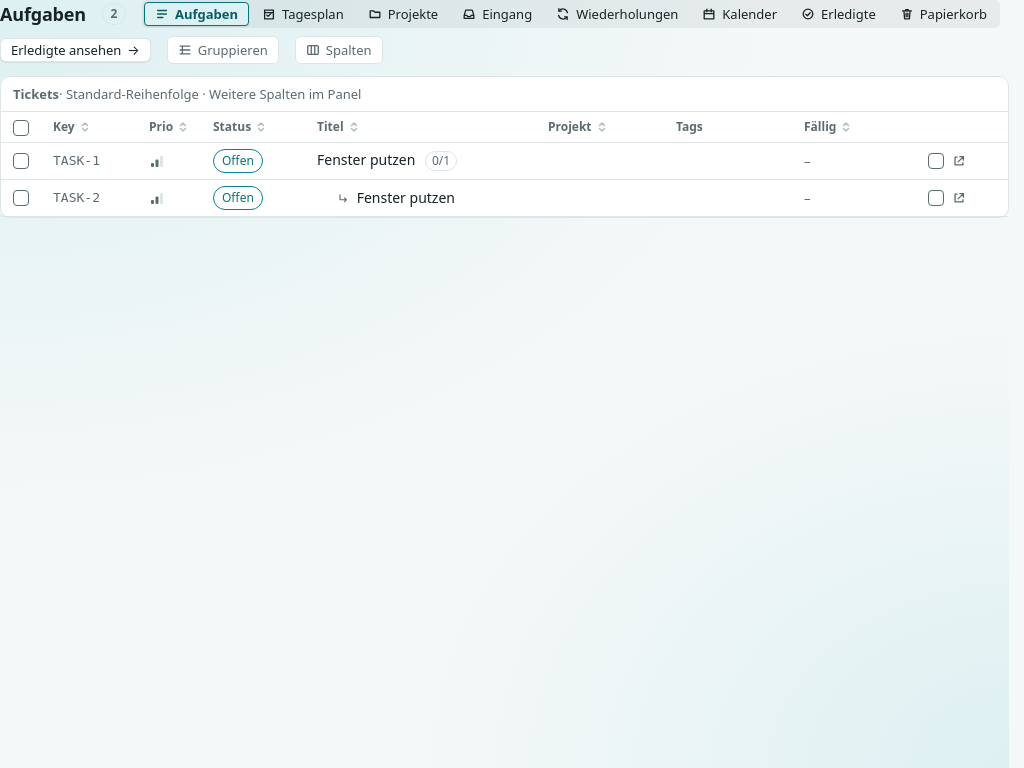
Test case: editing cells in place (plan BI-3) › completes through the check mark path, with the question about open sub-tasks
Click the button with aria-label "Status von TASK-1". click: (253, 161)
box: [201,143,305,179]
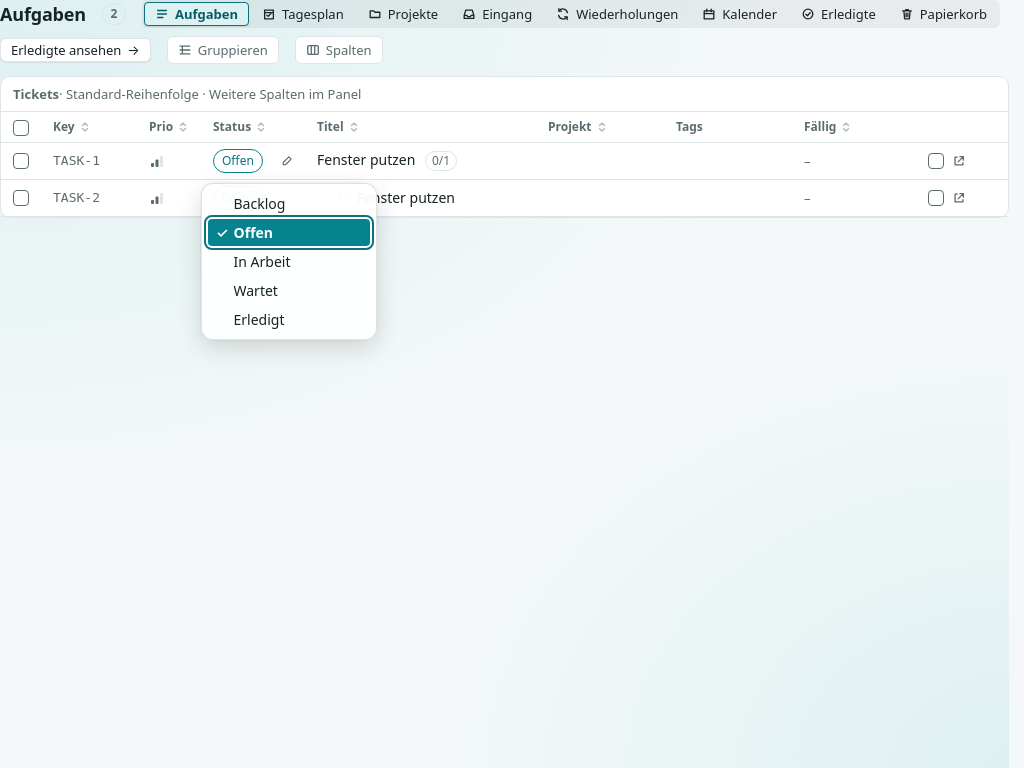
Click the menu item "Erledigt". click: (289, 319)
box: [208,306,370,333]
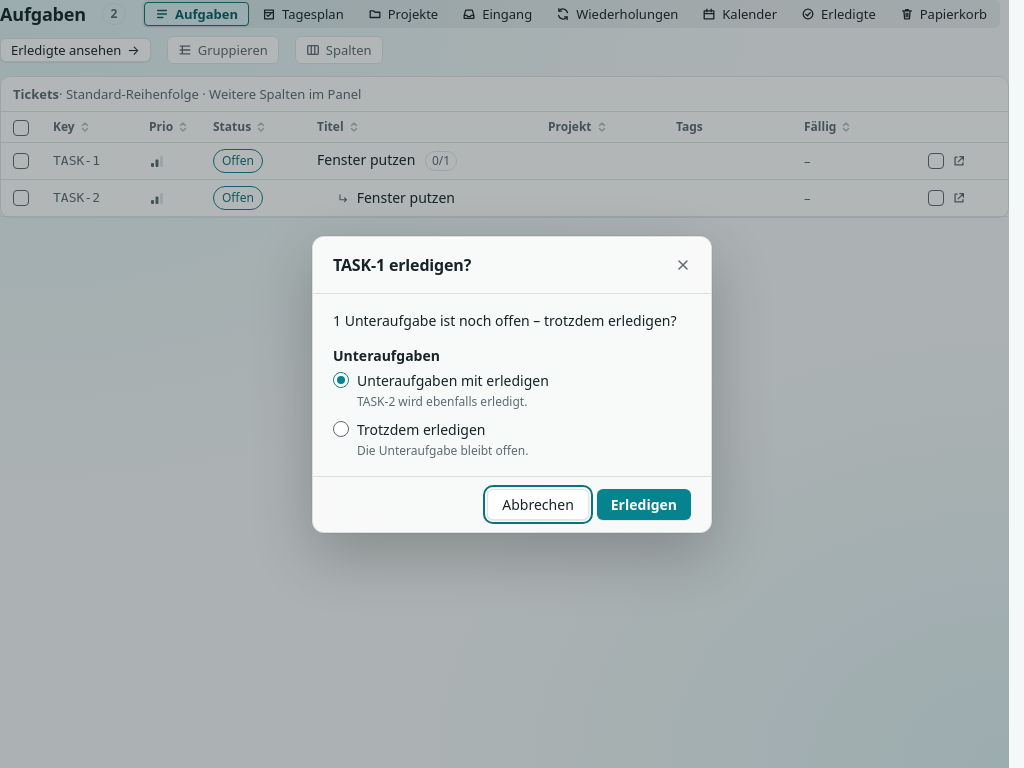
Expected: the dialog "TASK-1 erledigen?" is shown, [312,236,712,532]
